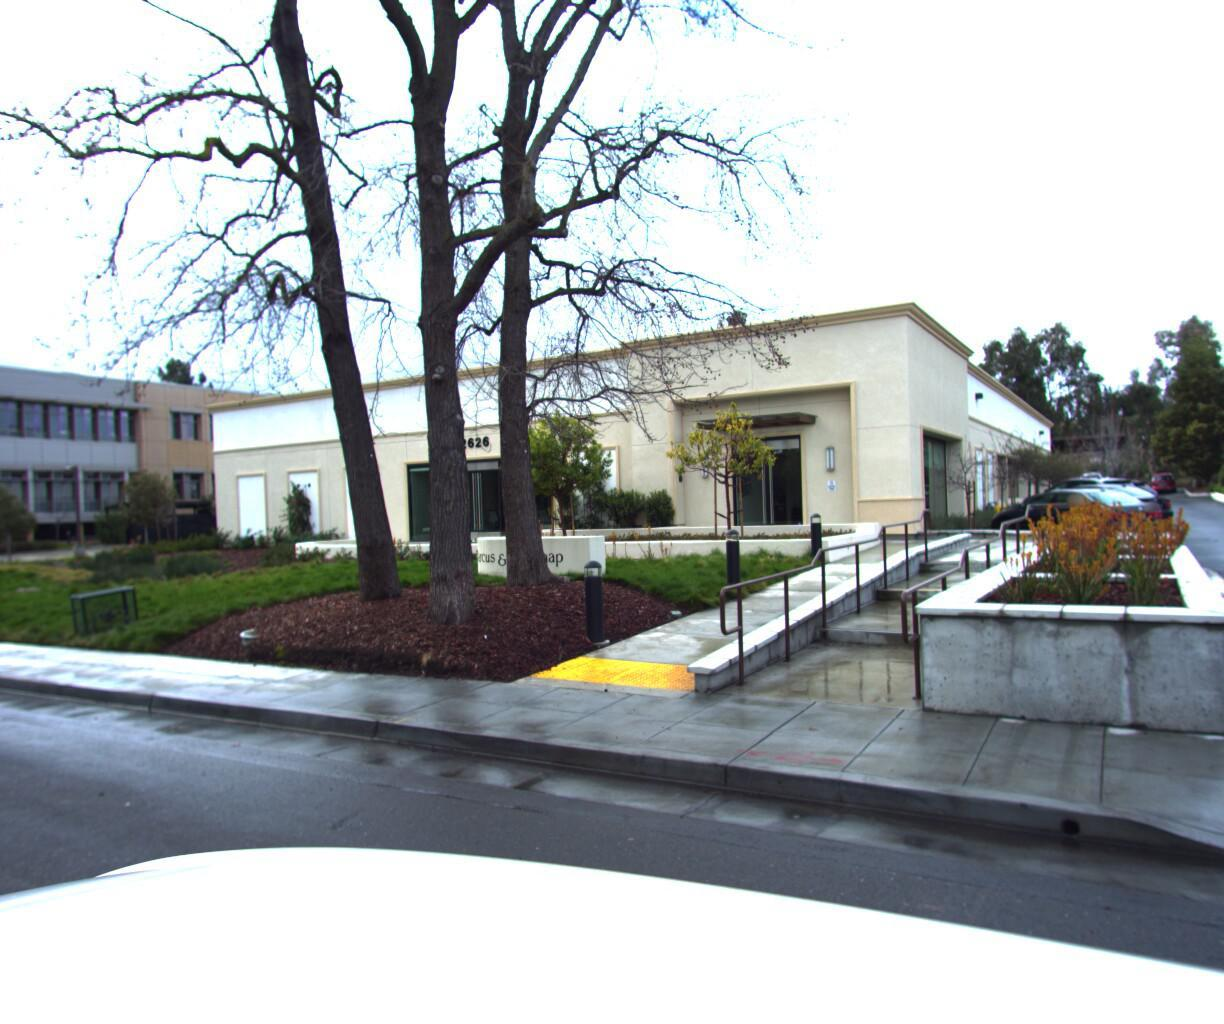bicycle: (0, 516, 4, 746)
